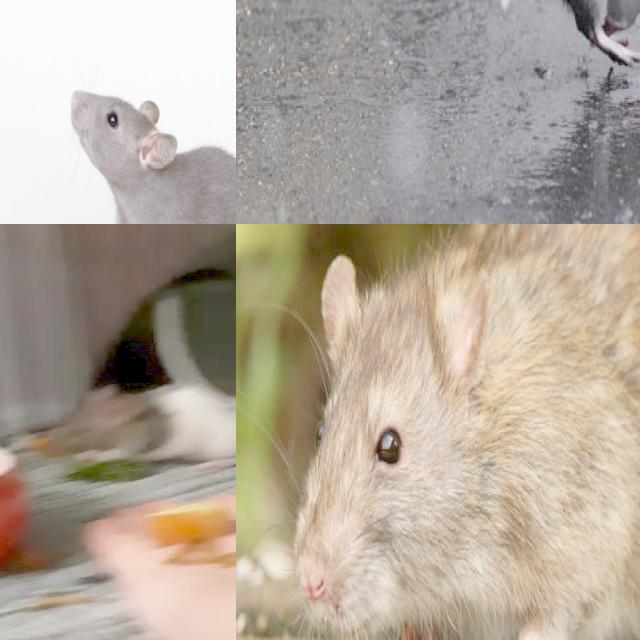rat: (281, 224, 582, 640), (243, 0, 640, 85), (45, 73, 236, 224), (40, 381, 236, 471)
